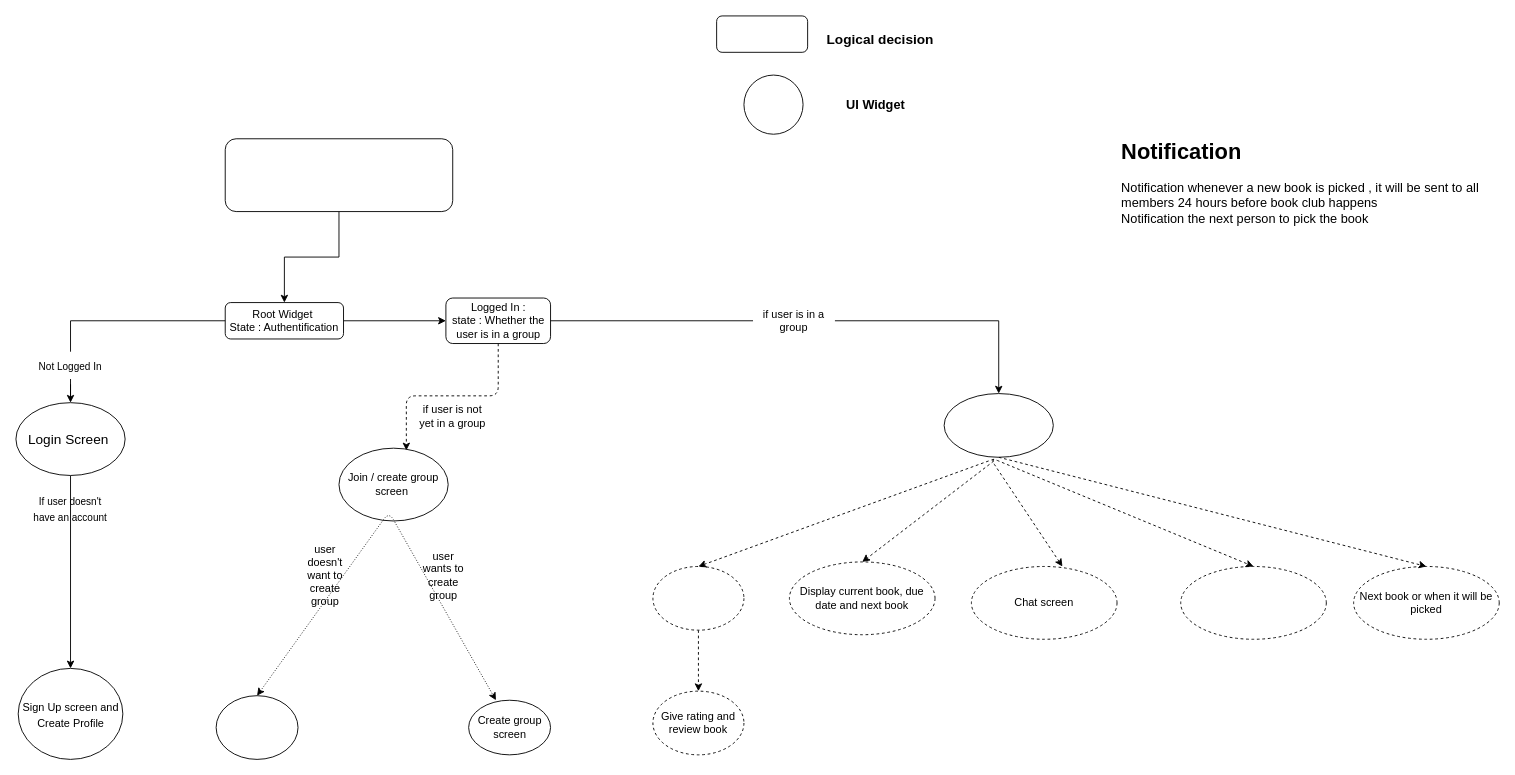
Image size: 1515x775. Some labels were removed from this diagram. Each missing label, with the centre of its shape:
"Display other people rating and reviews" belongs at (1253,602).
"Finish current book" belongs at (698,598).
"Group screen" belongs at (998,425).
"Join group screen" belongs at (256,727).
"MyApp" belongs at (338,175).
